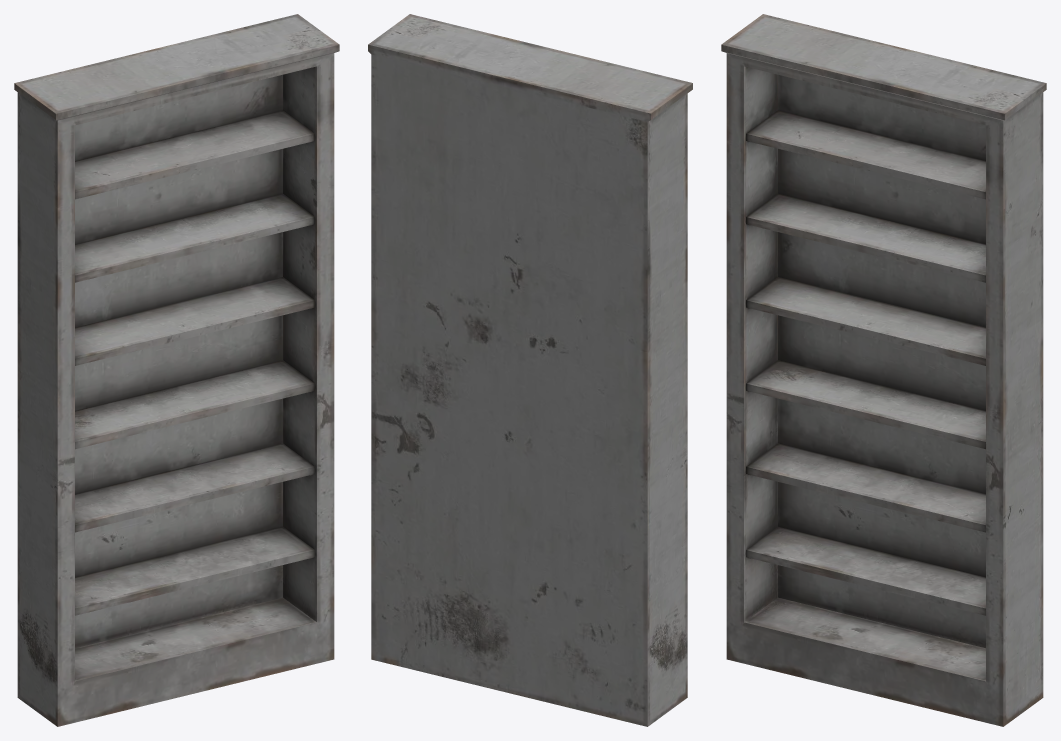
File: Shelf_01.glb
3 views of the same model, side by side, from view 1: azimuth 30°, elevation 25°; view 2: azimuth 150°, elevation 25°; view 3: azimuth 330°, elevation 25° (orthographic).
Visible parts, largest first — view 1: Shelf_01; view 2: Shelf_01; view 3: Shelf_01.
Boxes of the visible parts, left/top/right/bottom form: Shelf_01: left=14, top=14, right=339, bottom=726; Shelf_01: left=368, top=14, right=692, bottom=726; Shelf_01: left=721, top=14, right=1046, bottom=726.
Bounding box in the file's own units: 1 × 2.08 × 0.257.
Materials: 1 (1 with a texture image).
